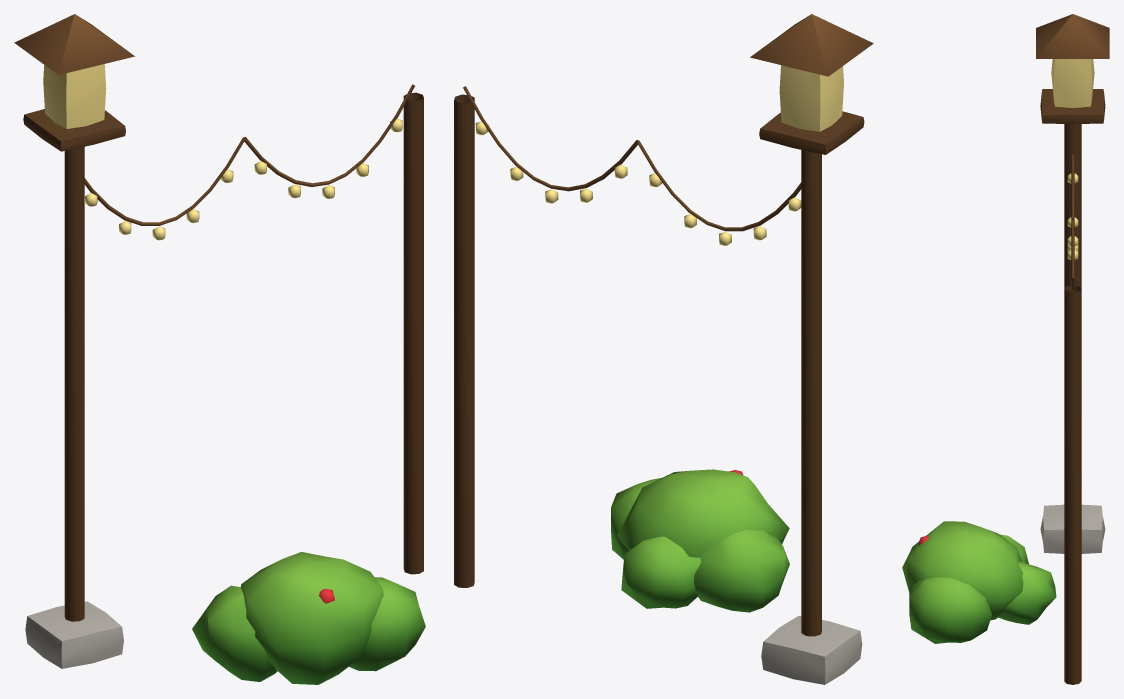
The model's file is Lighting.obj.
3 renders of one model, left to right at view 1: azimuth 30°, elevation 25°; view 2: azimuth 150°, elevation 25°; view 3: azimuth 270°, elevation 25°, orthographic. The views are drawn at different scales.
Parts seen in each view (by area): view 1: Lighting; view 2: Lighting; view 3: Lighting.
Boxes of the visible parts, left/top/right/bottom form: Lighting: left=14, top=14, right=425, bottom=684; Lighting: left=454, top=14, right=873, bottom=684; Lighting: left=902, top=14, right=1109, bottom=684.
Size of the model in its own units: 1.71 by 2.76 by 0.9581.
Materials: 1 (1 with a texture image).
